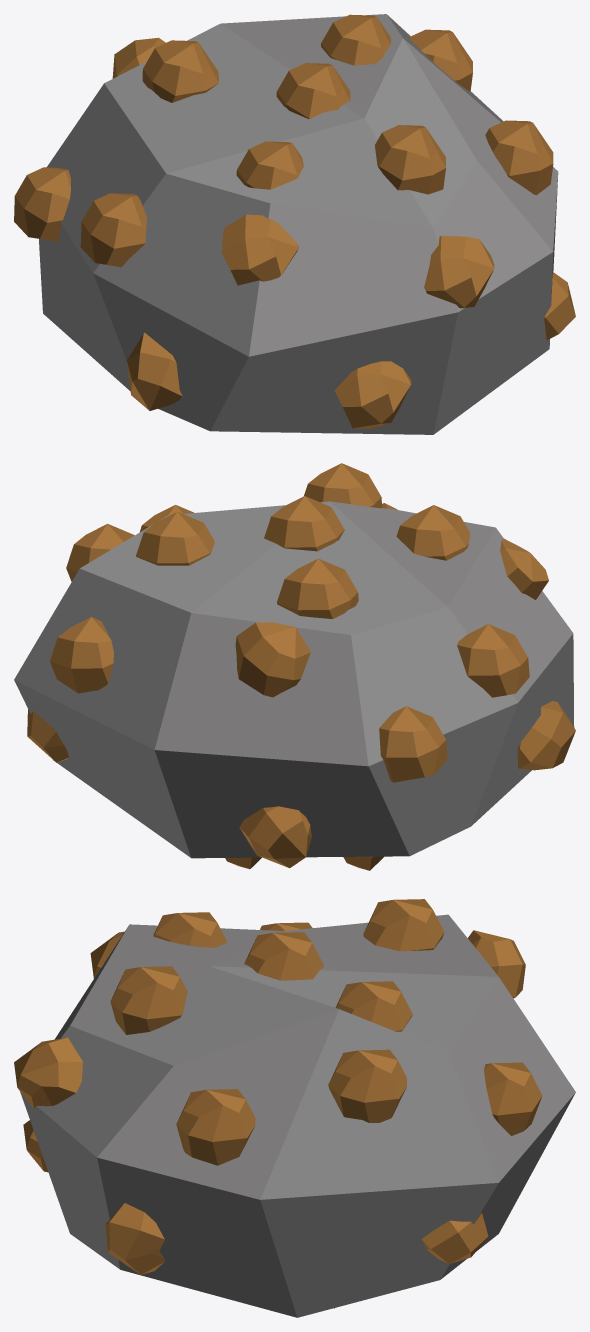
The model's file is rich_iron_ore.fbx.
The picture shows the model from 3 angles, top to bottom: view 1: azimuth 30°, elevation 25°; view 2: azimuth 150°, elevation 25°; view 3: azimuth 270°, elevation 25°; orthographic projection. The views are drawn at different scales.
Parts seen in each view (by area): view 1: Cube.1506; view 2: Cube.1506; view 3: Cube.1506.
Part boxes in pixels (x1,y1,x2,y2): Cube.1506: [14, 14, 575, 434]; Cube.1506: [14, 463, 575, 870]; Cube.1506: [14, 899, 575, 1317].
Size of the model in its own units: 858 by 606 by 900.
